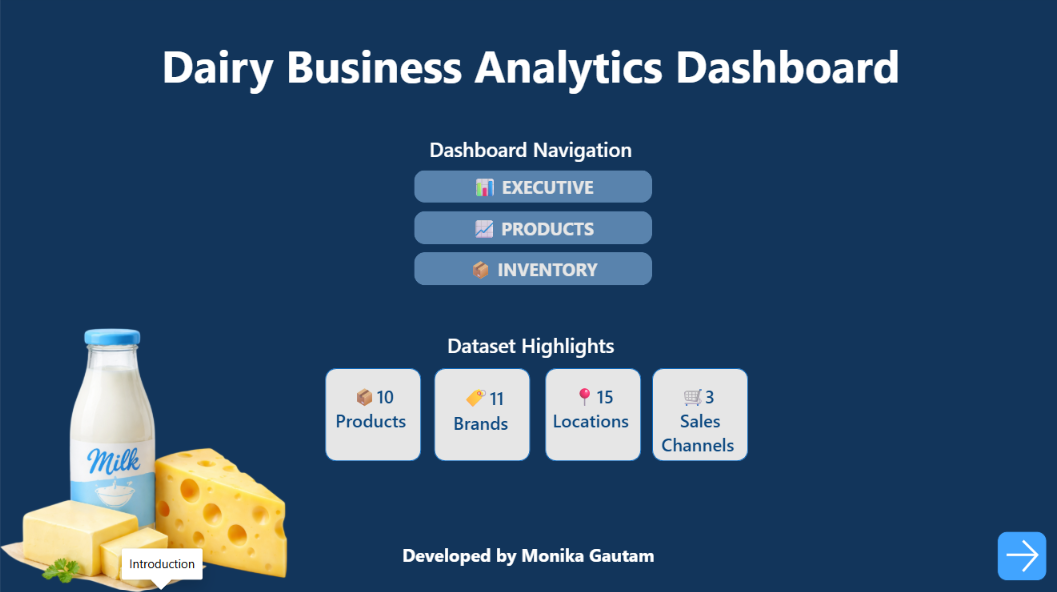

What the dashboard file says about the page in this screenshot:
{"tool":"powerbi","page":{"name":"Introduction","canvas":[1280,720],"ordinal":0},"visuals":[{"type":"actionButton","box":[499.5,259.4,287.1,39.8],"z":0},{"type":"actionButton","box":[499.5,209.9,287.1,39],"z":2000},{"type":"textbox","box":[0,42.2,1280,102.5],"z":3000},{"type":"image","box":[0,400.5,346.2,319.7],"z":4000},{"type":"textbox","box":[0,164.1,1280,45.8],"z":6000},{"type":"textbox","box":[480.2,653.9,399.3,43.4],"z":7000},{"type":"textbox","box":[0,400.5,1280,45.8],"z":8000},{"type":"actionButton","box":[1202.8,645.4,60,60],"z":9000},{"type":"shape","box":[392.1,448.8,115.8,112.2],"z":10000},{"type":"shape","box":[523.6,448.8,115.8,112.2],"z":11000},{"type":"shape","box":[657.5,448.8,115.8,112.2],"z":12000},{"type":"shape","box":[786.6,448.8,115.8,112.2],"z":13000},{"type":"textbox","box":[392.1,463.3,115.8,83.2],"z":14000},{"type":"textbox","box":[524.8,463.3,115.8,83.2],"z":15000},{"type":"textbox","box":[657.5,463.3,115.8,83.2],"z":16000},{"type":"textbox","box":[786.6,463.3,115.8,106.2],"z":17000},{"type":"actionButton","box":[499.5,308.8,287.1,39.8],"z":18000}]}

Visuals, with their boxes in screenshot pixels (x1, y1, x2, y2), scaled from the page's 1280x720 canvas onto the 1057x592 screenshot:
actionButton: 412,213,650,246
actionButton: 412,173,650,205
textbox: 0,35,1056,119
image: 0,329,286,591
textbox: 0,135,1056,173
textbox: 397,538,726,573
textbox: 0,329,1056,367
actionButton: 993,531,1043,580
shape: 324,369,419,461
shape: 432,369,528,461
shape: 543,369,639,461
shape: 650,369,745,461
textbox: 324,381,419,449
textbox: 433,381,529,449
textbox: 543,381,639,449
textbox: 650,381,745,468
actionButton: 412,254,650,287
